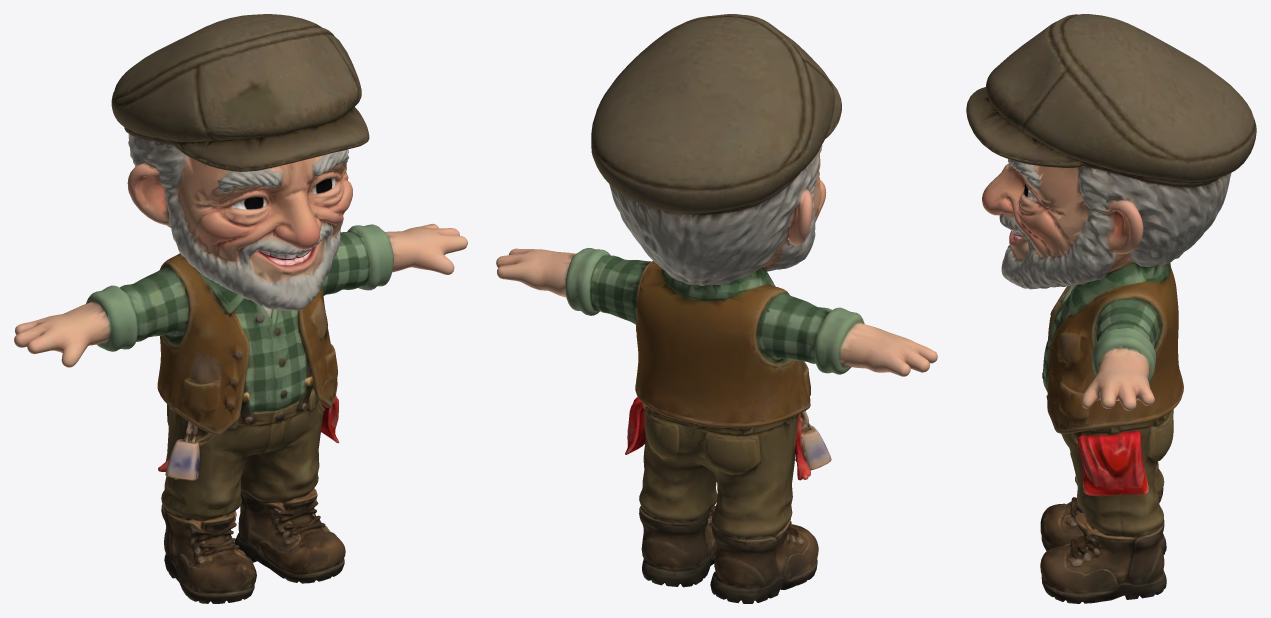
The model's file is a3D-granjero.glb.
The picture shows the model from 3 angles, left to right: view 1: azimuth 30°, elevation 25°; view 2: azimuth 150°, elevation 25°; view 3: azimuth 270°, elevation 25°; orthographic projection. The views are drawn at different scales.
Parts seen in each view (by area): view 1: geometry_0; view 2: geometry_0; view 3: geometry_0.
Boxes of the visible parts, x1,y1,x2,y2 form: geometry_0: (14,14,467,603); geometry_0: (496,14,937,603); geometry_0: (966,14,1256,603).
Bounding box in the file's own units: 1.59 × 1.9 × 0.924.
1 material, 1 textured.
